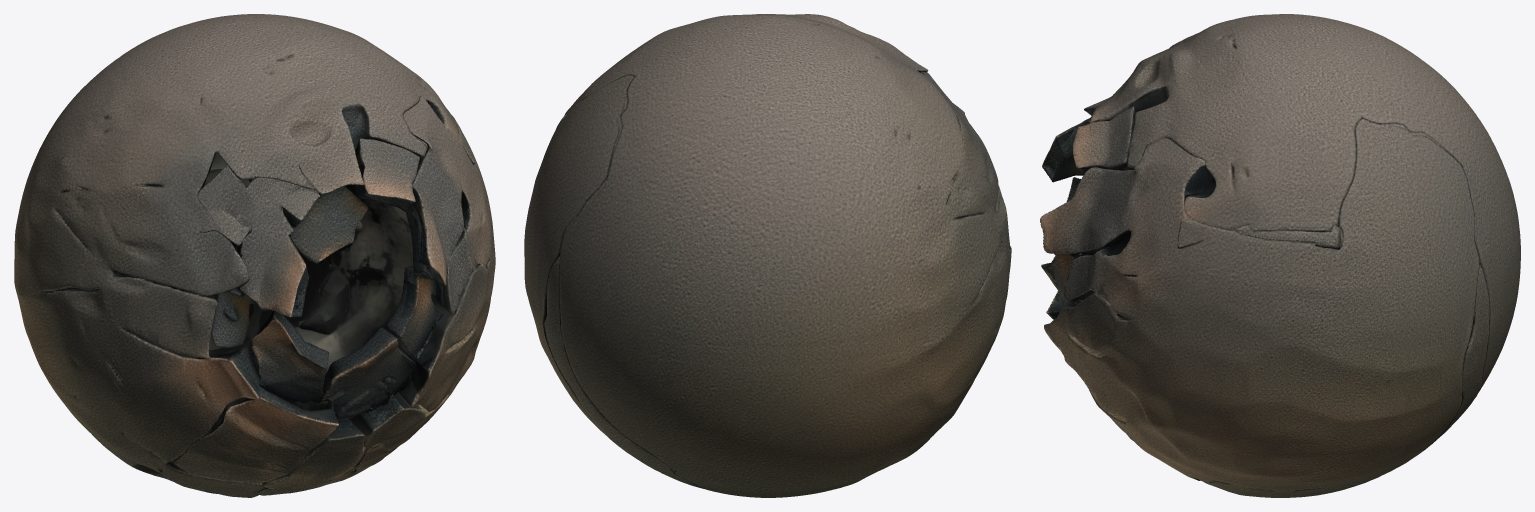
File: tripo_convert_fae834d1-f02d-4d61-a3e1-54384d84694d.fbx
3 views of the same model, side by side, from view 1: azimuth 30°, elevation 25°; view 2: azimuth 150°, elevation 25°; view 3: azimuth 270°, elevation 25° (orthographic).
Visible parts, largest first — view 1: tripo_part_0, tripo_part_1, tripo_part_2, tripo_part_3, tripo_part_6, tripo_part_4, tripo_part_5; view 2: tripo_part_0, tripo_part_1, tripo_part_5; view 3: tripo_part_1, tripo_part_0, tripo_part_5, tripo_part_4, tripo_part_3, tripo_part_7, tripo_part_2.
Boxes of the visible parts, x1,y1,x2,y2 form: tripo_part_0: [14, 14, 474, 497]; tripo_part_1: [261, 97, 495, 490]; tripo_part_2: [222, 184, 444, 419]; tripo_part_3: [198, 165, 368, 348]; tripo_part_6: [174, 310, 338, 482]; tripo_part_4: [354, 138, 419, 211]; tripo_part_5: [258, 443, 398, 495]; tripo_part_0: [559, 14, 1011, 497]; tripo_part_1: [524, 75, 634, 442]; tripo_part_5: [544, 256, 705, 489]; tripo_part_1: [1040, 118, 1479, 494]; tripo_part_0: [1089, 14, 1520, 392]; tripo_part_5: [1127, 263, 1490, 497]; tripo_part_4: [1072, 106, 1135, 173]; tripo_part_3: [1042, 72, 1133, 182]; tripo_part_7: [1231, 225, 1342, 249]; tripo_part_2: [1041, 250, 1098, 307].
Bounding box in the file's own units: 98.25 × 97.42 × 97.96.
